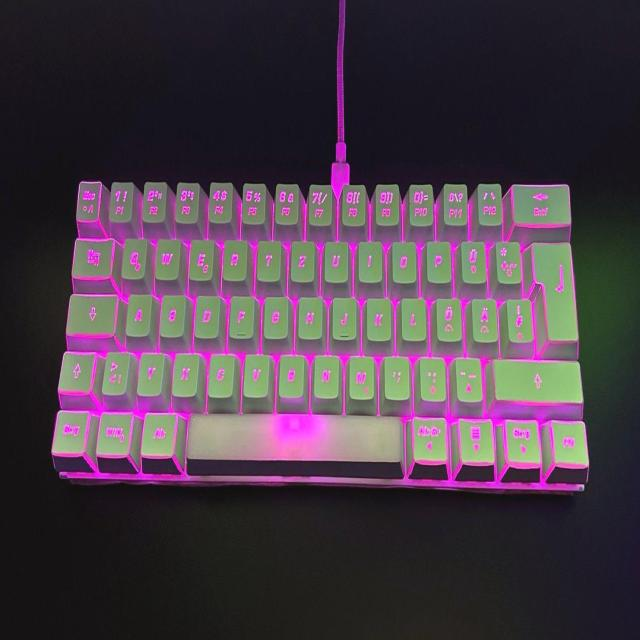0: (407, 181, 434, 226)
1: (107, 177, 133, 221)
2: (142, 180, 168, 224)
3: (174, 180, 200, 224)
4: (208, 181, 234, 226)
5: (242, 180, 268, 225)
6: (273, 180, 299, 225)
7: (306, 181, 333, 226)
8: (340, 182, 367, 226)
9: (373, 183, 400, 227)
a: (124, 290, 151, 336)
accent: (476, 181, 503, 226)
ae: (470, 294, 497, 341)
alt-left: (139, 408, 176, 457)
altgr-right: (409, 412, 447, 464)
b: (276, 350, 304, 395)
c: (206, 350, 234, 396)
caret: (76, 177, 102, 222)
comma: (382, 353, 409, 399)
d: (193, 291, 219, 337)
del: (509, 180, 570, 227)
e: (188, 237, 214, 281)
enter: (529, 236, 578, 340)
f: (227, 292, 253, 336)
g: (261, 292, 288, 337)
h: (295, 292, 322, 338)
hash: (505, 295, 532, 342)
i: (357, 237, 382, 281)
j: (330, 293, 355, 339)
k: (364, 293, 391, 339)
keyboard: (44, 171, 593, 503)
l: (399, 293, 425, 339)
less: (100, 348, 129, 393)
m: (345, 352, 374, 399)
minus: (453, 354, 482, 401)
n: (311, 351, 339, 397)
o: (389, 237, 416, 281)
oe: (435, 293, 462, 340)
p: (425, 237, 451, 281)
plus: (494, 237, 521, 283)
point: (418, 353, 446, 399)
q: (119, 234, 146, 278)
r: (221, 236, 247, 279)
s: (158, 291, 184, 335)
shift-left: (56, 349, 95, 392)
shift-lock: (64, 291, 117, 334)
shift-right: (490, 356, 581, 402)
space: (182, 410, 404, 463)
ss: (442, 182, 469, 226)
strg-left: (49, 405, 88, 454)
strg-right: (548, 416, 589, 466)
t: (255, 236, 280, 280)
tab: (70, 235, 113, 277)
u: (322, 237, 348, 281)
ue: (460, 236, 487, 282)
v: (241, 349, 268, 395)
w: (153, 234, 179, 278)
x: (170, 349, 198, 395)
y: (135, 348, 163, 394)
z: (289, 237, 314, 280)
